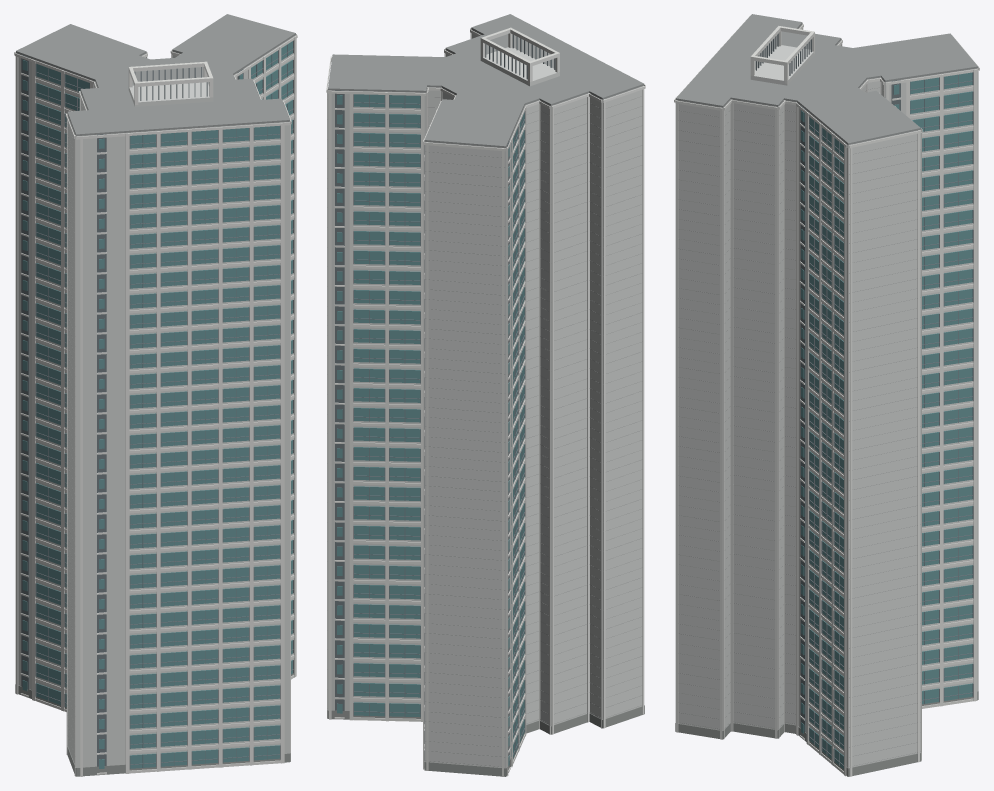
File: bespoke-banpo-riche-101.glb
3 views of the same model, side by side, from view 1: azimuth 30°, elevation 25°; view 2: azimuth 150°, elevation 25°; view 3: azimuth 270°, elevation 25° (orthographic).
Visible parts, largest first — view 1: Riche101_editable_Riche101_teal_rectangular_grouped_windows, Riche101_editable_Riche101_light_grey_solid_wall, Riche101_editable_Riche101_broad_white_facade_frames, Riche101_editable_Riche101_dark_horizontal_spandrels_and_mul, Riche101_editable_Riche101_modest_grey_flat_roof_caps, Riche101_editable_Riche101_dark_recessed_service_strip, Riche101_editable_Riche101_muted_ground_wall; view 2: Riche101_editable_Riche101_light_grey_solid_wall, Riche101_editable_Riche101_broad_white_facade_frames, Riche101_editable_Riche101_teal_rectangular_grouped_windows, Riche101_editable_Riche101_modest_grey_flat_roof_caps, Riche101_editable_Riche101_dark_horizontal_spandrels_and_mul, Riche101_editable_Riche101_dark_recessed_service_strip, Riche101_editable_Riche101_muted_ground_wall; view 3: Riche101_editable_Riche101_light_grey_solid_wall, Riche101_editable_Riche101_broad_white_facade_frames, Riche101_editable_Riche101_teal_rectangular_grouped_windows, Riche101_editable_Riche101_modest_grey_flat_roof_caps, Riche101_editable_Riche101_dark_horizontal_spandrels_and_mul, Riche101_editable_Riche101_dark_recessed_service_strip, Riche101_editable_Riche101_muted_ground_wall.
Boxes of the visible parts, x1,y1,x2,y2 form: Riche101_editable_Riche101_teal_rectangular_grouped_windows: (22, 41, 292, 768); Riche101_editable_Riche101_light_grey_solid_wall: (16, 35, 295, 767); Riche101_editable_Riche101_broad_white_facade_frames: (14, 34, 297, 776); Riche101_editable_Riche101_dark_horizontal_spandrels_and_mul: (35, 40, 293, 768); Riche101_editable_Riche101_modest_grey_flat_roof_caps: (16, 14, 295, 762); Riche101_editable_Riche101_dark_recessed_service_strip: (21, 55, 243, 766); Riche101_editable_Riche101_muted_ground_wall: (15, 673, 293, 776); Riche101_editable_Riche101_light_grey_solid_wall: (328, 30, 643, 767); Riche101_editable_Riche101_broad_white_facade_frames: (326, 27, 645, 776); Riche101_editable_Riche101_teal_rectangular_grouped_windows: (337, 94, 524, 766); Riche101_editable_Riche101_modest_grey_flat_roof_caps: (327, 14, 644, 766); Riche101_editable_Riche101_dark_horizontal_spandrels_and_mul: (353, 94, 525, 760); Riche101_editable_Riche101_dark_recessed_service_strip: (335, 34, 555, 756); Riche101_editable_Riche101_muted_ground_wall: (327, 705, 644, 776); Riche101_editable_Riche101_light_grey_solid_wall: (675, 24, 978, 767); Riche101_editable_Riche101_broad_white_facade_frames: (674, 16, 979, 776); Riche101_editable_Riche101_teal_rectangular_grouped_windows: (801, 72, 972, 769); Riche101_editable_Riche101_modest_grey_flat_roof_caps: (675, 14, 978, 766); Riche101_editable_Riche101_dark_horizontal_spandrels_and_mul: (809, 72, 973, 765); Riche101_editable_Riche101_dark_recessed_service_strip: (756, 33, 900, 732); Riche101_editable_Riche101_muted_ground_wall: (675, 691, 978, 776).
Size of the model in its own units: 39.51 by 92.5 by 39.05.
